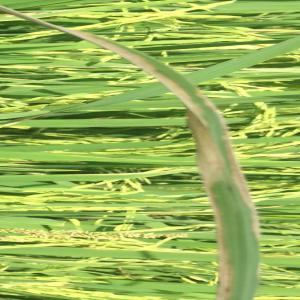Bacterial_Blight: (199, 122, 261, 300)
